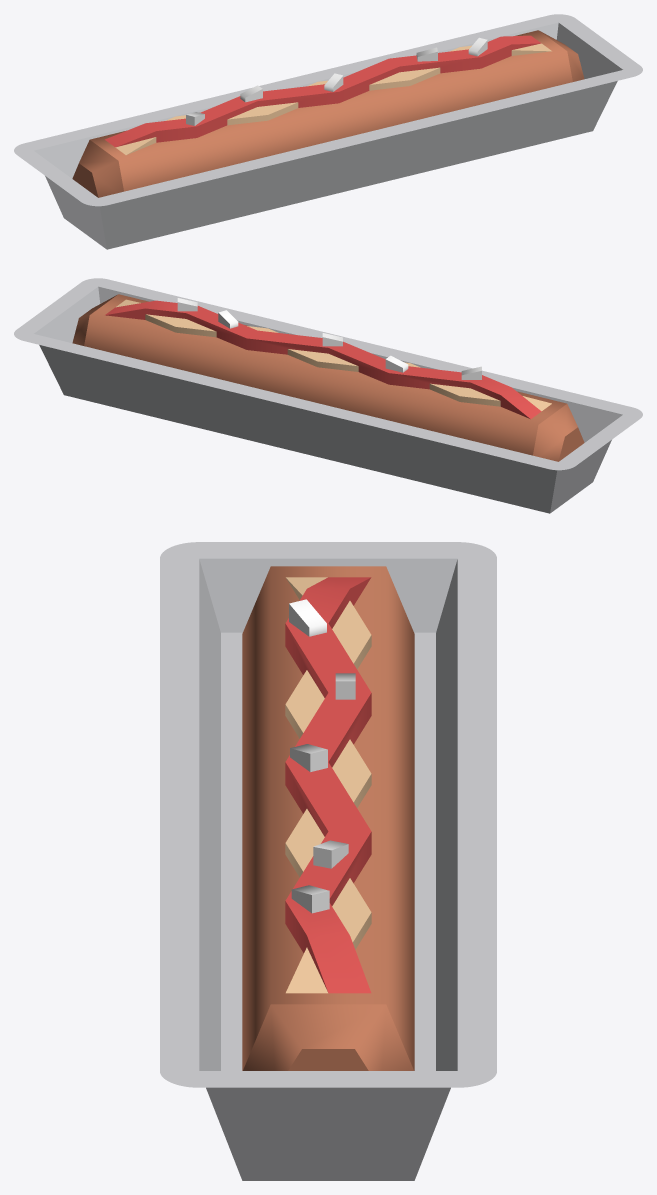
The model's file is frikandelSpeciaal.dae.
3 views of the same model, one above another, from view 1: azimuth 30°, elevation 25°; view 2: azimuth 150°, elevation 25°; view 3: azimuth 270°, elevation 25° (orthographic). The views are drawn at different scales.
Parts seen in each view (by area): view 1: frikandelSpeciaal, frikandel, sauceOnions; view 2: frikandelSpeciaal, frikandel, sauceOnions; view 3: frikandelSpeciaal, frikandel, sauceOnions.
Part boxes in pixels (x1,y1,x2,y2): frikandelSpeciaal: (14,14,642,249); frikandel: (72,30,584,197); sauceOnions: (105,35,551,155); frikandelSpeciaal: (14,278,642,513); frikandel: (72,294,584,461); sauceOnions: (105,298,551,419); frikandelSpeciaal: (160,542,496,1180); frikandel: (242,566,414,1070); sauceOnions: (285,577,371,993).
Bounding box in the file's own units: 0.636 × 0.1087 × 0.1661.
